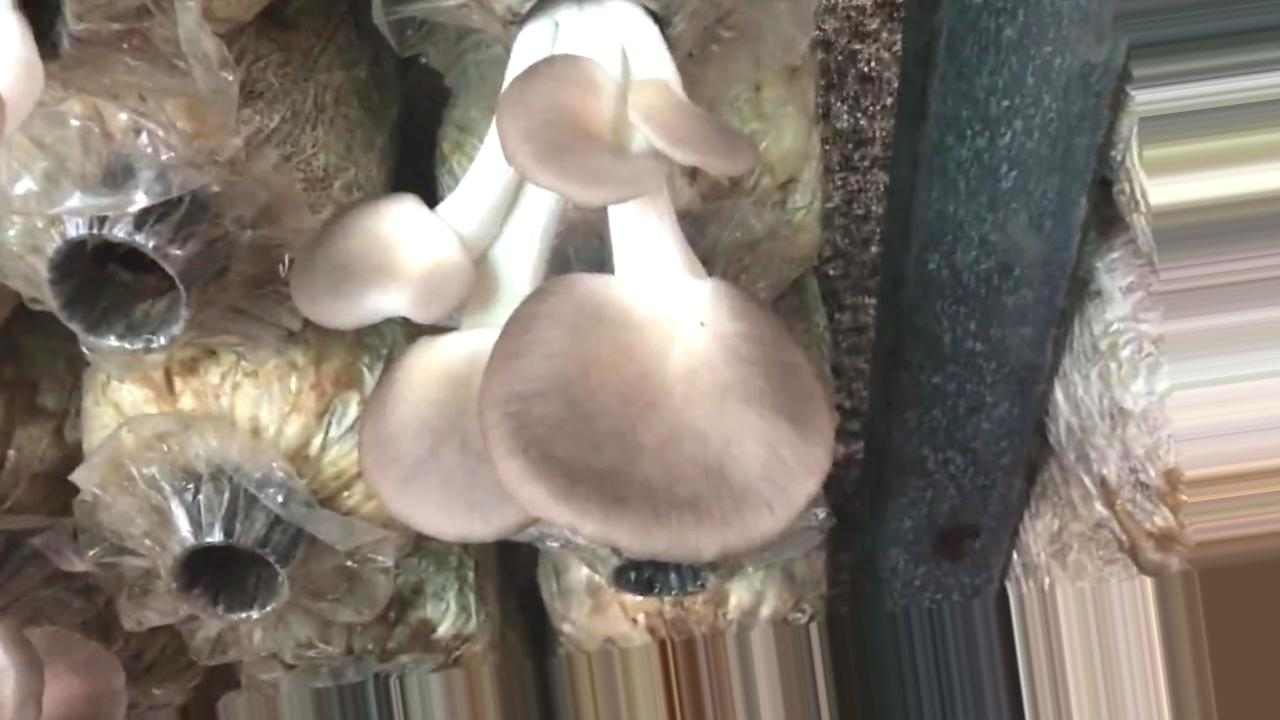nam: (294, 1, 836, 567)
